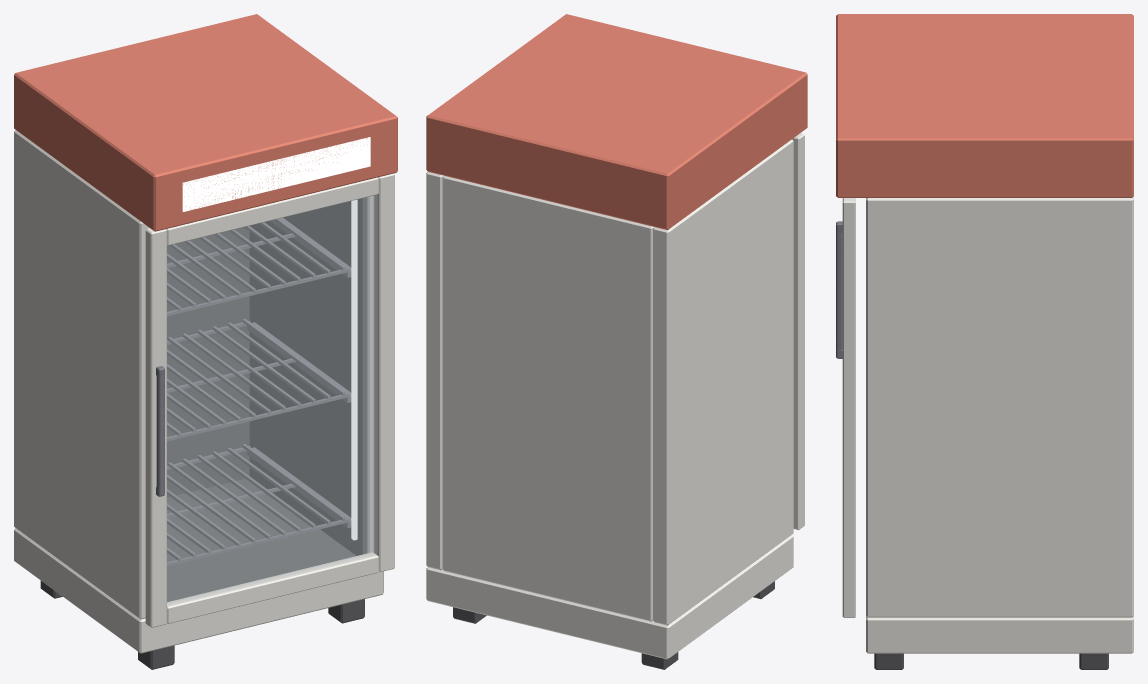
The model's file is drinks_cooler.glb.
The picture shows the model from 3 angles, left to right: view 1: azimuth 30°, elevation 25°; view 2: azimuth 150°, elevation 25°; view 3: azimuth 270°, elevation 25°; orthographic projection. The views are drawn at different scales.
Parts seen in each view (by area): view 1: drinks_cooler.001, door; view 2: drinks_cooler.001, door; view 3: drinks_cooler.001, door.
Boxes of the visible parts, left/top/right/bottom form: drinks_cooler.001: left=14, top=14, right=397, bottom=669; door: left=145, top=173, right=394, bottom=627; drinks_cooler.001: left=426, top=14, right=807, bottom=669; door: left=792, top=133, right=804, bottom=530; drinks_cooler.001: left=836, top=14, right=1133, bottom=669; door: left=836, top=198, right=855, bottom=617.
Size of what is drawn, in the model's own units: 0.45 by 0.9 by 0.45.
Materials: 6 (1 with a texture image).
